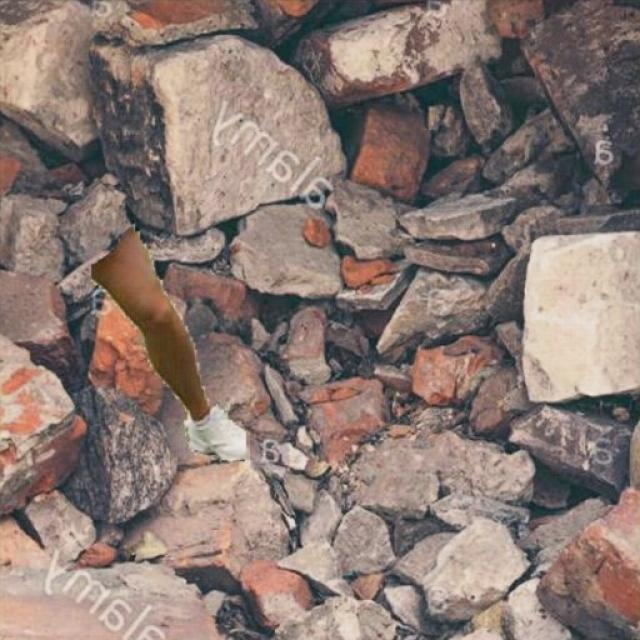Person in Rubble: (91, 224, 245, 460)
